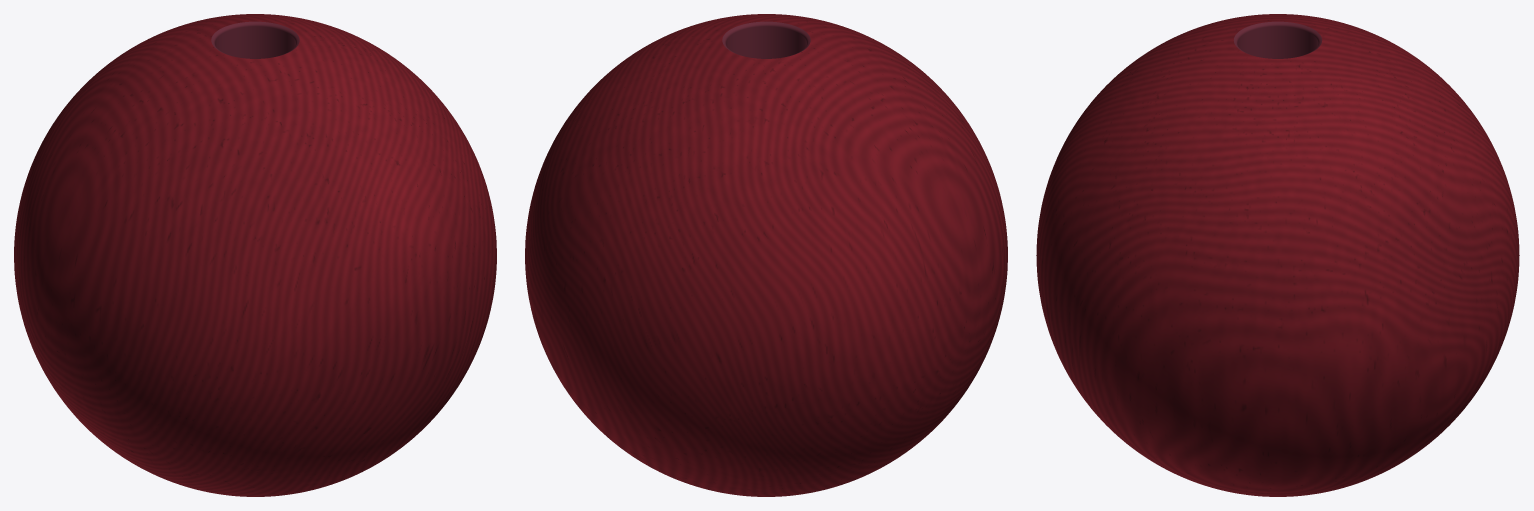
File: wood-blood-sandalwood-6mm.glb
The picture shows the model from 3 angles, left to right: view 1: azimuth 30°, elevation 25°; view 2: azimuth 150°, elevation 25°; view 3: azimuth 270°, elevation 25°; orthographic projection.
Visible parts, largest first — view 1: blood-sandalwood; view 2: blood-sandalwood; view 3: blood-sandalwood.
Part boxes in pixels (<box>): blood-sandalwood: <box>14,14,496,496</box>; blood-sandalwood: <box>525,14,1007,496</box>; blood-sandalwood: <box>1036,14,1519,496</box>.
Size of the model in its own units: 0.006 by 0.0059 by 0.006.
2 materials, 1 textured.
